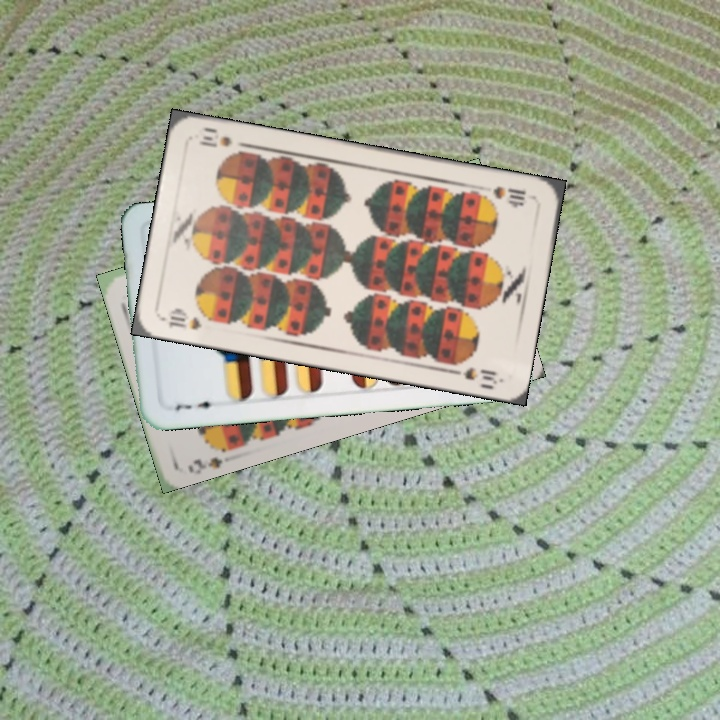E7: (170, 397, 221, 414)
S10: (476, 181, 529, 208), (165, 305, 204, 333)
S9: (184, 437, 237, 475)
